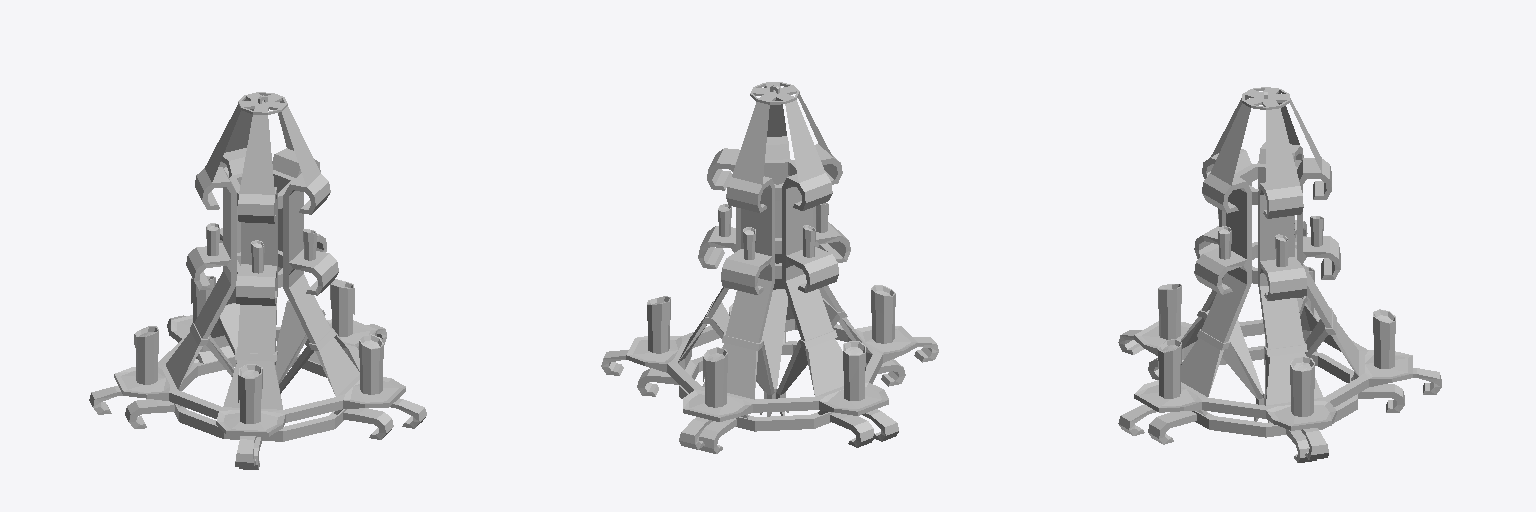
File: ChandelierOVJ.obj
3 views of the same model, side by side, from view 1: azimuth 30°, elevation 25°; view 2: azimuth 150°, elevation 25°; view 3: azimuth 270°, elevation 25° (orthographic).
Parts seen in each view (by area): view 1: Mesh_Chandelier01; view 2: Mesh_Chandelier01; view 3: Mesh_Chandelier01.
Boxes of the visible parts, <box> form: Mesh_Chandelier01: <box>89,92,426,469</box>; Mesh_Chandelier01: <box>601,82,938,453</box>; Mesh_Chandelier01: <box>1118,87,1441,462</box>.
Size of the model in its own units: 4.69 by 5.01 by 4.46.